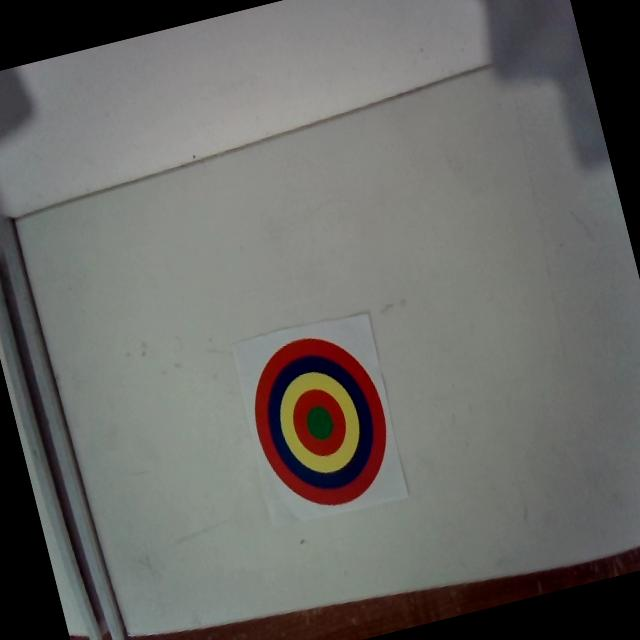cogn: (238, 323, 404, 520)
